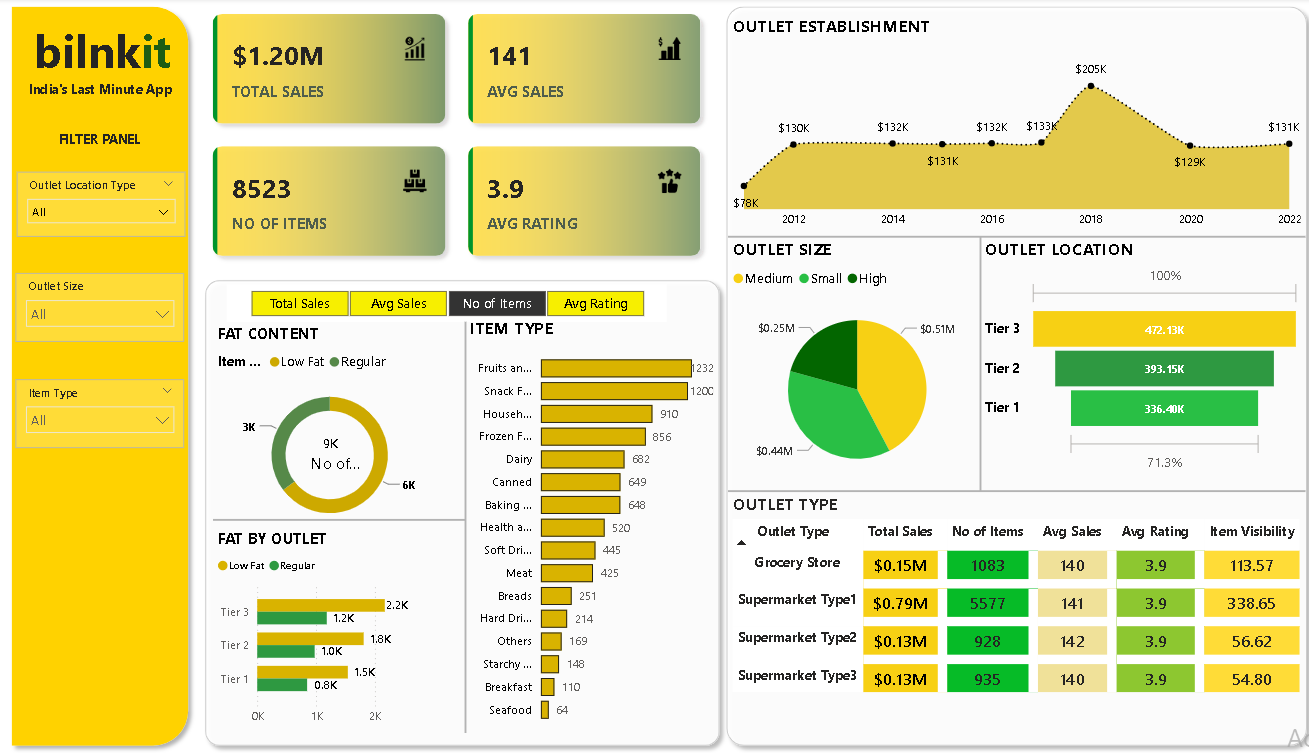

What the dashboard file says about the page in this screenshot:
{"tool":"powerbi","page":{"name":"Page 1","canvas":[1400,800],"ordinal":0},"visuals":[{"type":"shape","box":[10.6,0,205,800.3],"z":0},{"type":"textbox","box":[33.1,17.2,165.3,83.3],"z":1000},{"type":"textbox","box":[33.1,80.7,169.3,39.7],"z":2000},{"type":"cardVisual","fields":{"Data":["BlinkIT Grocery Data.Total Sales","BlinkIT Grocery Data.Avg Sales","BlinkIT Grocery Data.No of Items","BlinkIT Grocery Data.Avg Rating"]},"box":[215.6,0,551.6,291],"z":3000},{"type":"shape","box":[215.6,289.7,562.2,510.6],"z":4000},{"type":"donutChart","title":"FAT CONTENT","fields":{"Y":["BlinkIT Grocery Data.No of Items"],"Category":["BlinkIT Grocery Data.Item Fat Content"]},"box":[232.8,342.6,247.4,230.2],"z":5000},{"type":"slicer","fields":{"Values":["Metrics.Metrics"]},"box":[247.4,302.9,465.6,39.7],"z":6000},{"type":"cardVisual","fields":{"Data":["BlinkIT Grocery Data.No of Items"]},"box":[302.9,440.5,108.5,82],"z":7000},{"type":"clusteredBarChart","title":"FAT BY OUTLET","fields":{"Y":["BlinkIT Grocery Data.No of Items"],"Category":["BlinkIT Grocery Data.Outlet Location Type"],"Series":["BlinkIT Grocery Data.Item Fat Content"]},"box":[232.8,559.5,219.6,218.3],"z":8000},{"type":"shape","box":[232.8,543.7,267.2,17.2],"z":9000},{"type":"shape","box":[493.4,342.6,13.2,435.2],"z":10000},{"type":"barChart","title":"ITEM TYPE","fields":{"Y":["BlinkIT Grocery Data.No of Items"],"Category":["BlinkIT Grocery Data.Item Type"]},"box":[500,336,267.2,441.8],"z":11000},{"type":"shape","box":[767.2,0,632.3,800.3],"z":12000},{"type":"lineChart","title":"OUTLET ESTABLISHMENT","fields":{"Y":["BlinkIT Grocery Data.Total Sales"],"Category":["BlinkIT Grocery Data.Outlet Establishment Year"]},"box":[777.8,17.2,611.1,235.5],"z":13000},{"type":"shape","box":[777.8,239.4,611.1,26.5],"z":14000},{"type":"pieChart","title":"OUTLET SIZE","fields":{"Category":["BlinkIT Grocery Data.Outlet Size"],"Y":["BlinkIT Grocery Data.Total Sales"]},"box":[777.8,252.6,273.8,269.8],"z":15000},{"type":"shape","box":[1038.4,252.6,13.2,269.8],"z":16000},{"type":"funnel","title":"OUTLET LOCATION","fields":{"Category":["BlinkIT Grocery Data.Outlet Location Type"],"Y":["Sum(BlinkIT Grocery Data.Sales)"]},"box":[1045,252.6,343.9,255.3],"z":17000},{"type":"shape","box":[777.8,515.9,611.1,11.9],"z":18000},{"type":"pivotTable","title":"OUTLET TYPE","fields":{"Rows":["BlinkIT Grocery Data.Outlet Type"],"Values":["BlinkIT Grocery Data.Total Sales","BlinkIT Grocery Data.No of Items","BlinkIT Grocery Data.Avg Sales","BlinkIT Grocery Data.Avg Rating","Sum(BlinkIT Grocery Data.Item Visibility)"]},"box":[777.8,522.5,611.1,255.3],"z":19000},{"type":"slicer","fields":{"Values":["BlinkIT Grocery Data.Outlet Location Type"]},"box":[25.1,183.9,178.6,68.8],"z":20000},{"type":"slicer","fields":{"Values":["BlinkIT Grocery Data.Outlet Size"]},"box":[23.8,291,178.6,72.8],"z":21000},{"type":"slicer","fields":{"Values":["BlinkIT Grocery Data.Item Type"]},"box":[23.8,403.4,178.6,72.8],"z":22000},{"type":"textbox","box":[23.8,134.9,178.6,34.4],"z":23000}]}

Visuals, with their boxes in screenshot pixels (x1, y1, x2, y2), scaled from the page's 1400x800 canvas onto the 1309x753 screenshot:
shape: [10, 0, 202, 752]
textbox: [31, 16, 186, 95]
textbox: [31, 76, 189, 113]
cardVisual - BlinkIT Grocery Data.Total Sales x BlinkIT Grocery Data.Avg Sales: [202, 0, 717, 274]
shape: [202, 273, 727, 752]
"FAT CONTENT" donutChart: [218, 322, 449, 539]
slicer - Metrics.Metrics: [231, 285, 667, 322]
cardVisual - BlinkIT Grocery Data.No of Items: [283, 415, 385, 492]
"FAT BY OUTLET" clusteredBarChart: [218, 527, 423, 732]
shape: [218, 512, 468, 528]
shape: [461, 322, 474, 732]
"ITEM TYPE" barChart: [468, 316, 717, 732]
shape: [717, 0, 1308, 752]
"OUTLET ESTABLISHMENT" lineChart: [727, 16, 1299, 238]
shape: [727, 225, 1299, 250]
"OUTLET SIZE" pieChart: [727, 238, 983, 492]
shape: [971, 238, 983, 492]
"OUTLET LOCATION" funnel: [977, 238, 1299, 478]
shape: [727, 486, 1299, 497]
"OUTLET TYPE" pivotTable: [727, 492, 1299, 732]
slicer - BlinkIT Grocery Data.Outlet Location Type: [23, 173, 190, 238]
slicer - BlinkIT Grocery Data.Outlet Size: [22, 274, 189, 342]
slicer - BlinkIT Grocery Data.Item Type: [22, 380, 189, 448]
textbox: [22, 127, 189, 159]
